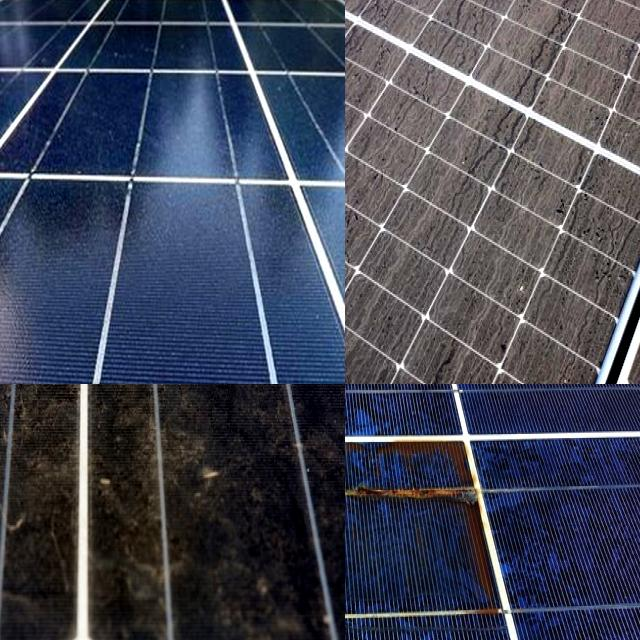crack: (0, 0, 345, 384)
dust: (467, 84, 574, 384), (95, 384, 210, 635), (237, 384, 311, 636), (345, 130, 459, 264), (101, 384, 259, 480), (497, 0, 640, 91), (0, 384, 44, 640), (23, 384, 68, 629), (93, 384, 345, 421), (252, 384, 345, 479), (0, 384, 34, 639), (0, 384, 81, 486), (345, 318, 463, 384), (345, 0, 467, 60), (0, 384, 65, 482), (0, 384, 89, 416), (345, 0, 382, 38)
shadow: (345, 431, 504, 640)
